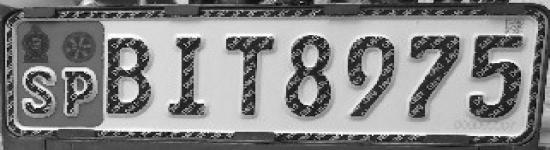5: (465, 27, 530, 126)
7: (401, 26, 464, 126)
8: (282, 31, 340, 125)
9: (343, 28, 400, 126)
B: (104, 34, 155, 122)
I: (156, 31, 217, 124)
P: (58, 65, 100, 121)
S: (21, 65, 58, 120)
T: (219, 27, 282, 124)
